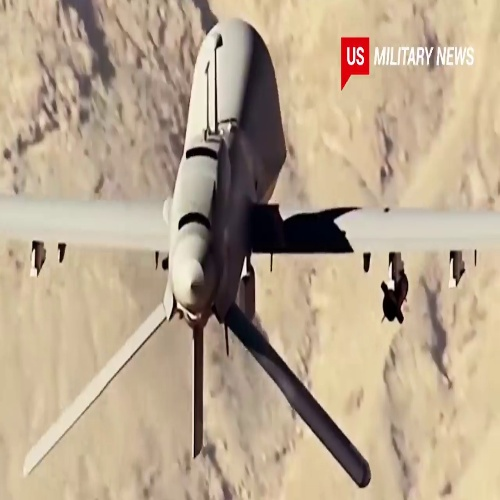uav153: (4, 19, 496, 487)
